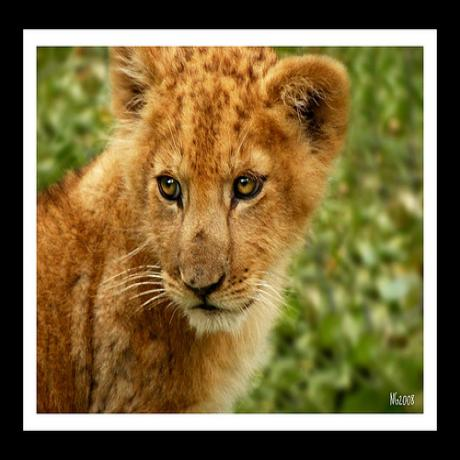Lion: (38, 45, 346, 410)
